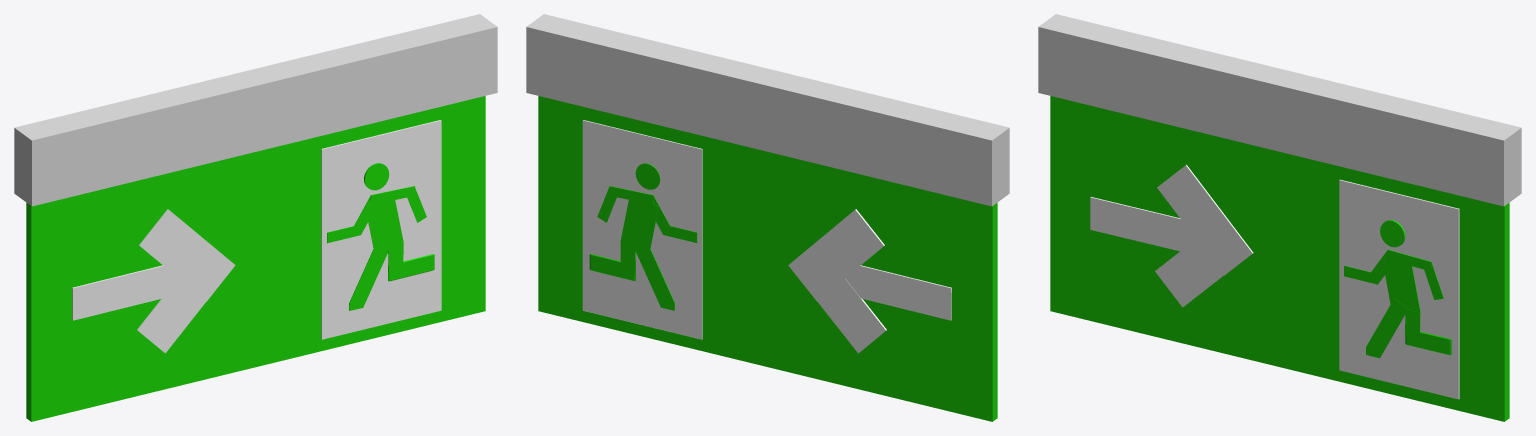
The model's file is NødudgangHøjre.fbx.
3 views of the same model, side by side, from view 1: azimuth 30°, elevation 25°; view 2: azimuth 150°, elevation 25°; view 3: azimuth 330°, elevation 25° (orthographic).
Parts seen in each view (by area): view 1: Cube, Cube.001, Cube.002, Cube.006, Cube.003, Cube.007, Cube.008, Cube.011, Cube.010, Cylinder, Cube.012; view 2: Cube, Cube.001, Cube.002, Cube.007, Cube.003, Cube.006, Cube.008, Cube.011, Cube.010, Cylinder; view 3: Cube, Cube.001, Cube.002, Cube.007, Cube.006, Cube.003, Cube.008, Cube.011, Cube.010, Cylinder, Cube.012.
Boxes of the visible parts, <box> form: Cube: <box>26,96,485,421</box>; Cube.001: <box>14,14,497,206</box>; Cube.002: <box>321,120,441,339</box>; Cube.006: <box>137,242,234,353</box>; Cube.003: <box>72,265,178,320</box>; Cube.007: <box>139,209,235,301</box>; Cube.008: <box>365,200,403,248</box>; Cube.011: <box>349,240,391,306</box>; Cube.010: <box>388,254,434,281</box>; Cylinder: <box>364,163,389,190</box>; Cube.012: <box>370,186,414,204</box>; Cube: <box>538,96,997,421</box>; Cube.001: <box>526,14,1009,206</box>; Cube.002: <box>582,120,702,339</box>; Cube.007: <box>788,209,884,300</box>; Cube.003: <box>845,265,951,320</box>; Cube.006: <box>812,271,886,353</box>; Cube.008: <box>620,194,658,254</box>; Cube.011: <box>635,249,674,306</box>; Cube.010: <box>589,254,635,280</box>; Cylinder: <box>635,163,660,189</box>; Cube: <box>1050,96,1509,421</box>; Cube.001: <box>1038,14,1521,206</box>; Cube.002: <box>1339,179,1459,399</box>; Cube.007: <box>1157,165,1253,275</box>; Cube.006: <box>1155,220,1251,307</box>; Cube.003: <box>1090,197,1195,251</box>; Cube.008: <box>1382,258,1420,312</box>; Cube.011: <box>1366,298,1407,357</box>; Cube.010: <box>1405,329,1451,355</box>; Cylinder: <box>1380,220,1405,247</box>; Cube.012: <box>1387,249,1431,271</box>.
Bounding box in the file's own units: 177 × 104 × 11.62.
